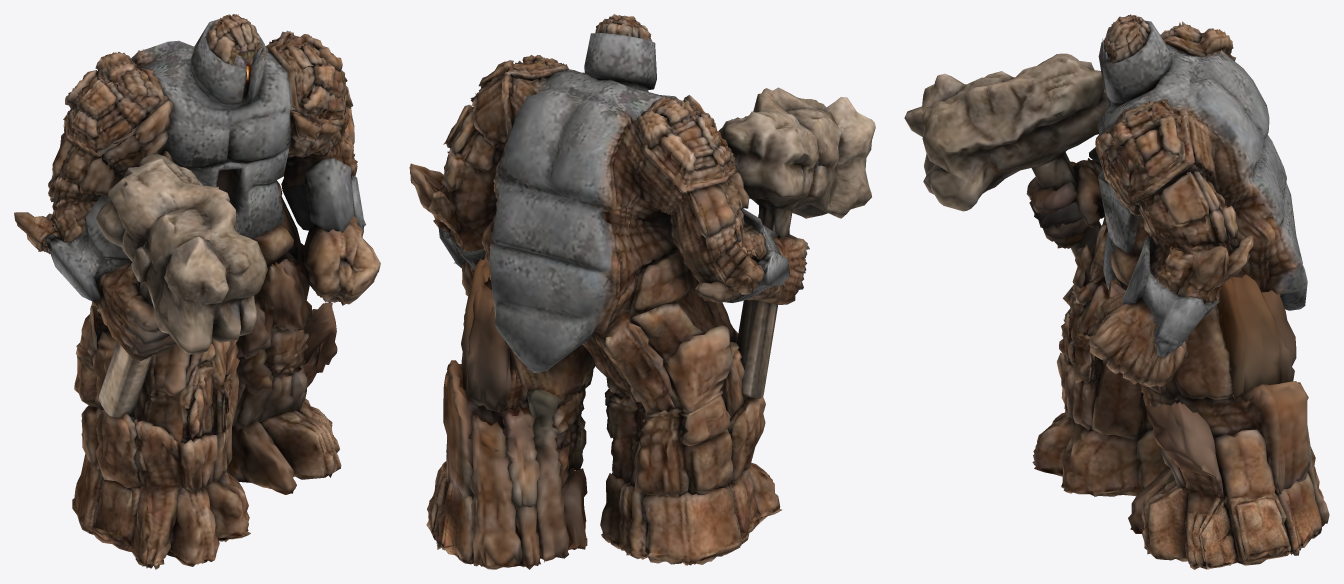
The model's file is MZ4250 - Earth Elemental Myrmidon.glb.
3 views of the same model, side by side, from view 1: azimuth 30°, elevation 25°; view 2: azimuth 150°, elevation 25°; view 3: azimuth 270°, elevation 25° (orthographic).
Visible parts, largest first — view 1: Cube.001; view 2: Cube.001; view 3: Cube.001.
Boxes of the visible parts, x1,y1,x2,y2 form: Cube.001: [14, 14, 380, 569]; Cube.001: [409, 14, 875, 569]; Cube.001: [904, 14, 1329, 569].
Size of the model in its own units: 0.8441 by 1.19 by 0.9295.
1 material, 1 textured.
